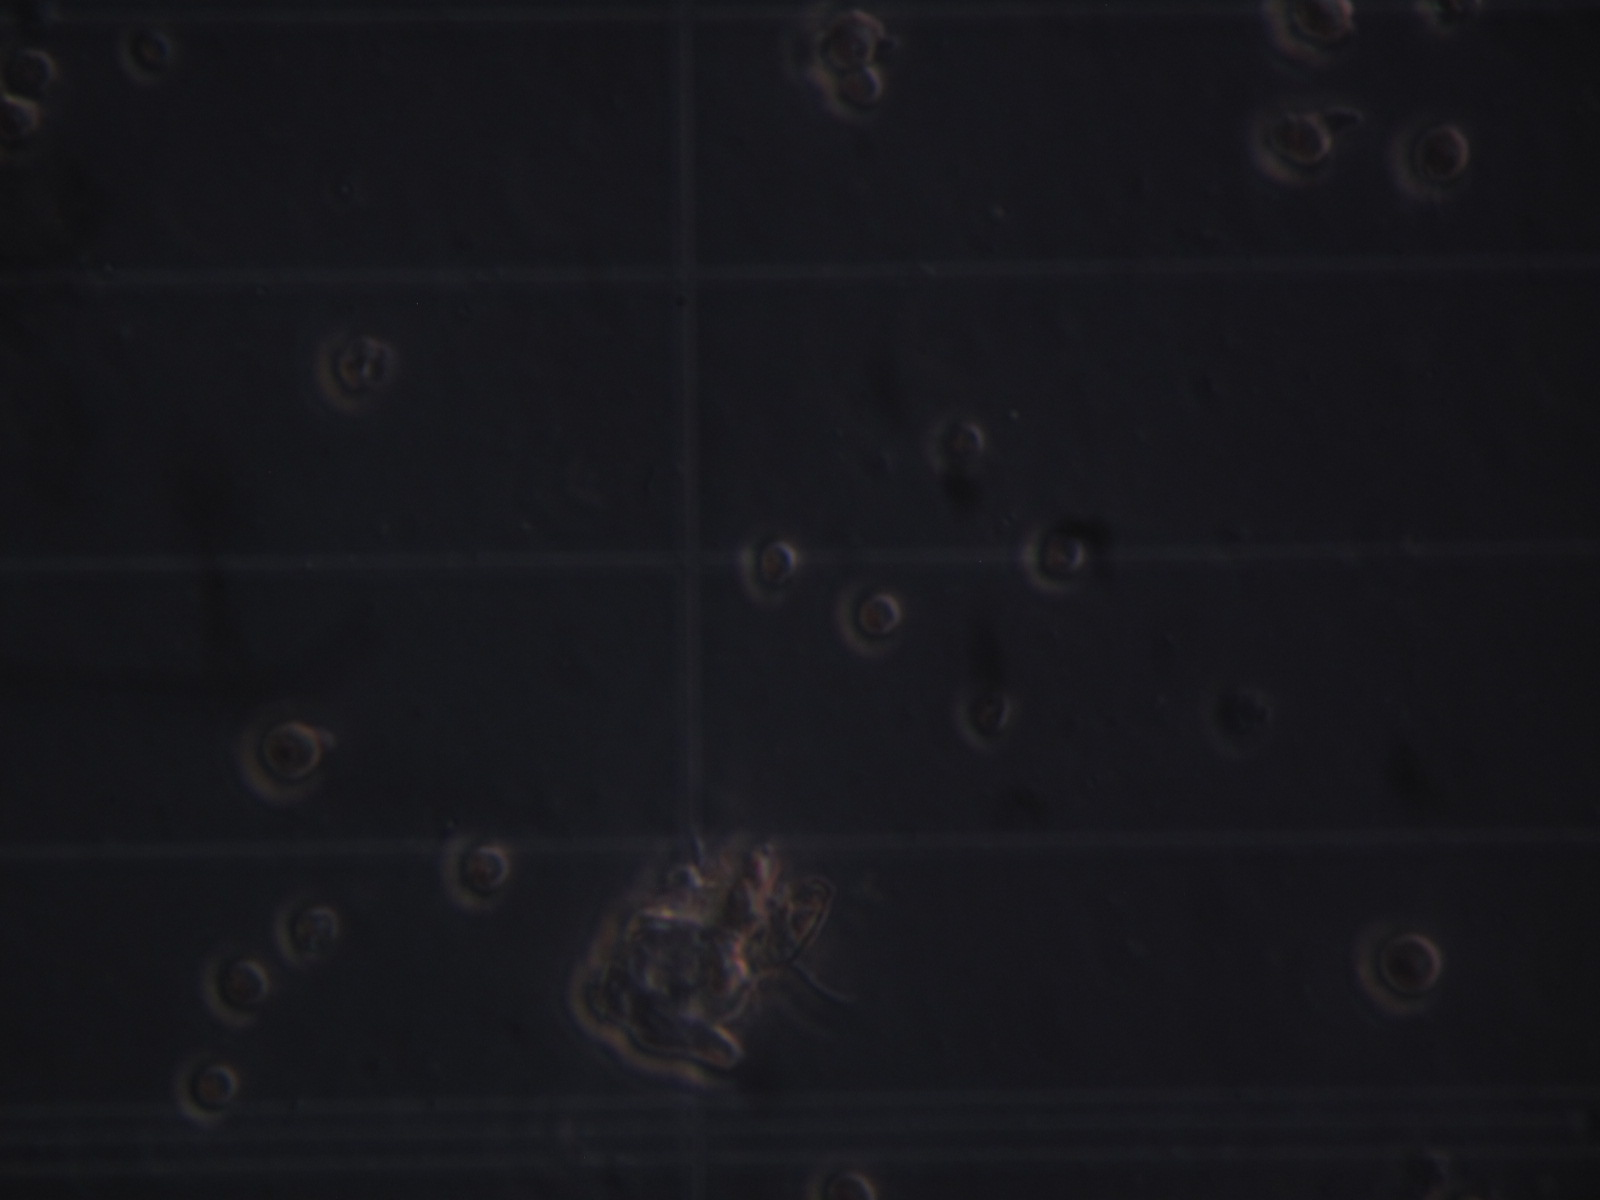hemo: (236, 718, 329, 805), (1353, 926, 1443, 1013), (317, 326, 397, 412), (273, 897, 354, 976), (1257, 105, 1335, 184), (1017, 519, 1089, 600), (838, 581, 910, 661), (1387, 122, 1471, 189), (203, 950, 273, 1027), (176, 1053, 244, 1126), (440, 836, 506, 910), (1269, 1, 1357, 55), (734, 541, 797, 610), (809, 16, 879, 76), (929, 413, 988, 480), (952, 686, 1010, 750), (821, 66, 884, 118), (1, 38, 54, 100), (806, 1165, 879, 1200), (1, 93, 42, 142)
